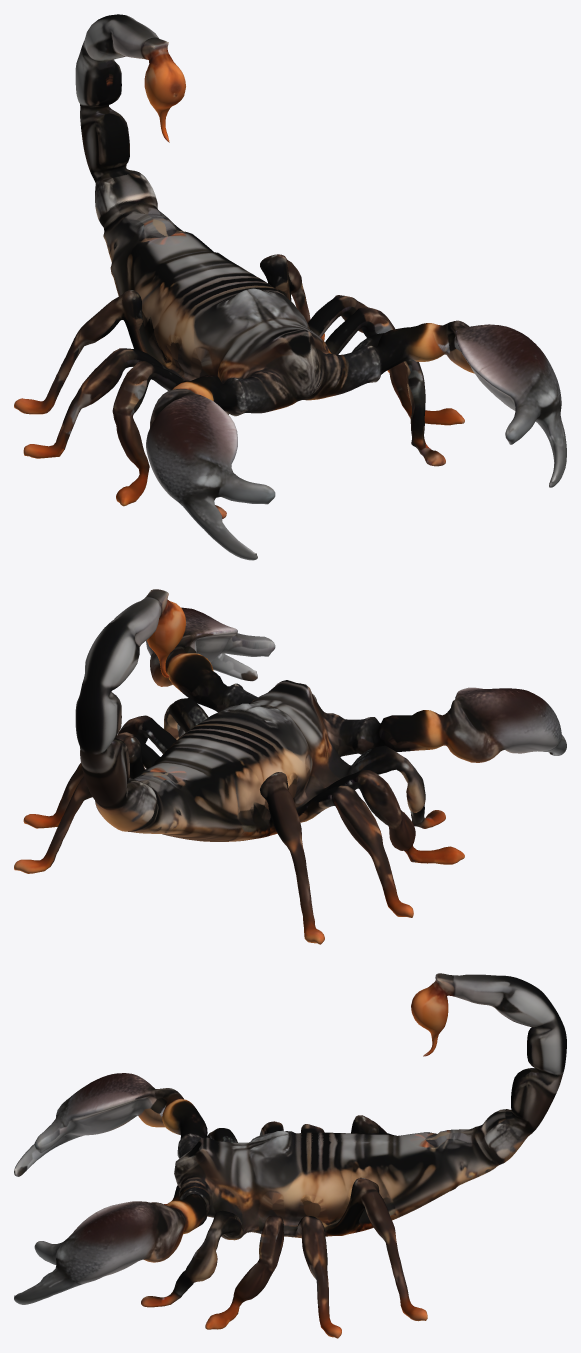
The model's file is emperor-scorpion.glb.
3 views of the same model, one above another, from view 1: azimuth 30°, elevation 25°; view 2: azimuth 150°, elevation 25°; view 3: azimuth 270°, elevation 25° (orthographic). The views are drawn at different scales.
Parts seen in each view (by area): view 1: Object_2; view 2: Object_2; view 3: Object_2.
Part boxes in pixels (bbox=[...]): Object_2: bbox=[14, 14, 566, 560]; Object_2: bbox=[14, 589, 566, 944]; Object_2: bbox=[14, 973, 566, 1338].
Size of the model in its own units: 1.37 by 1.07 by 1.9.
Materials: 1 (1 with a texture image).
